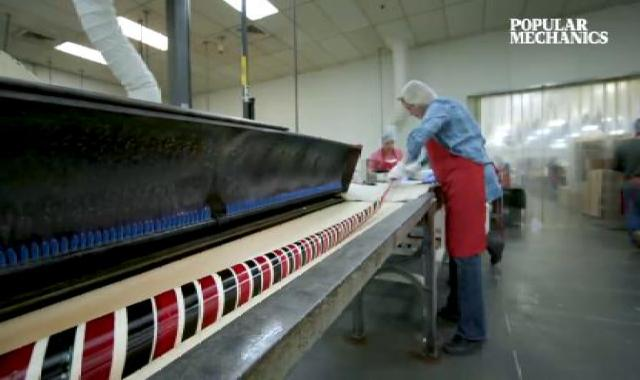hairnet: (399, 77, 444, 112), (377, 133, 398, 149)
